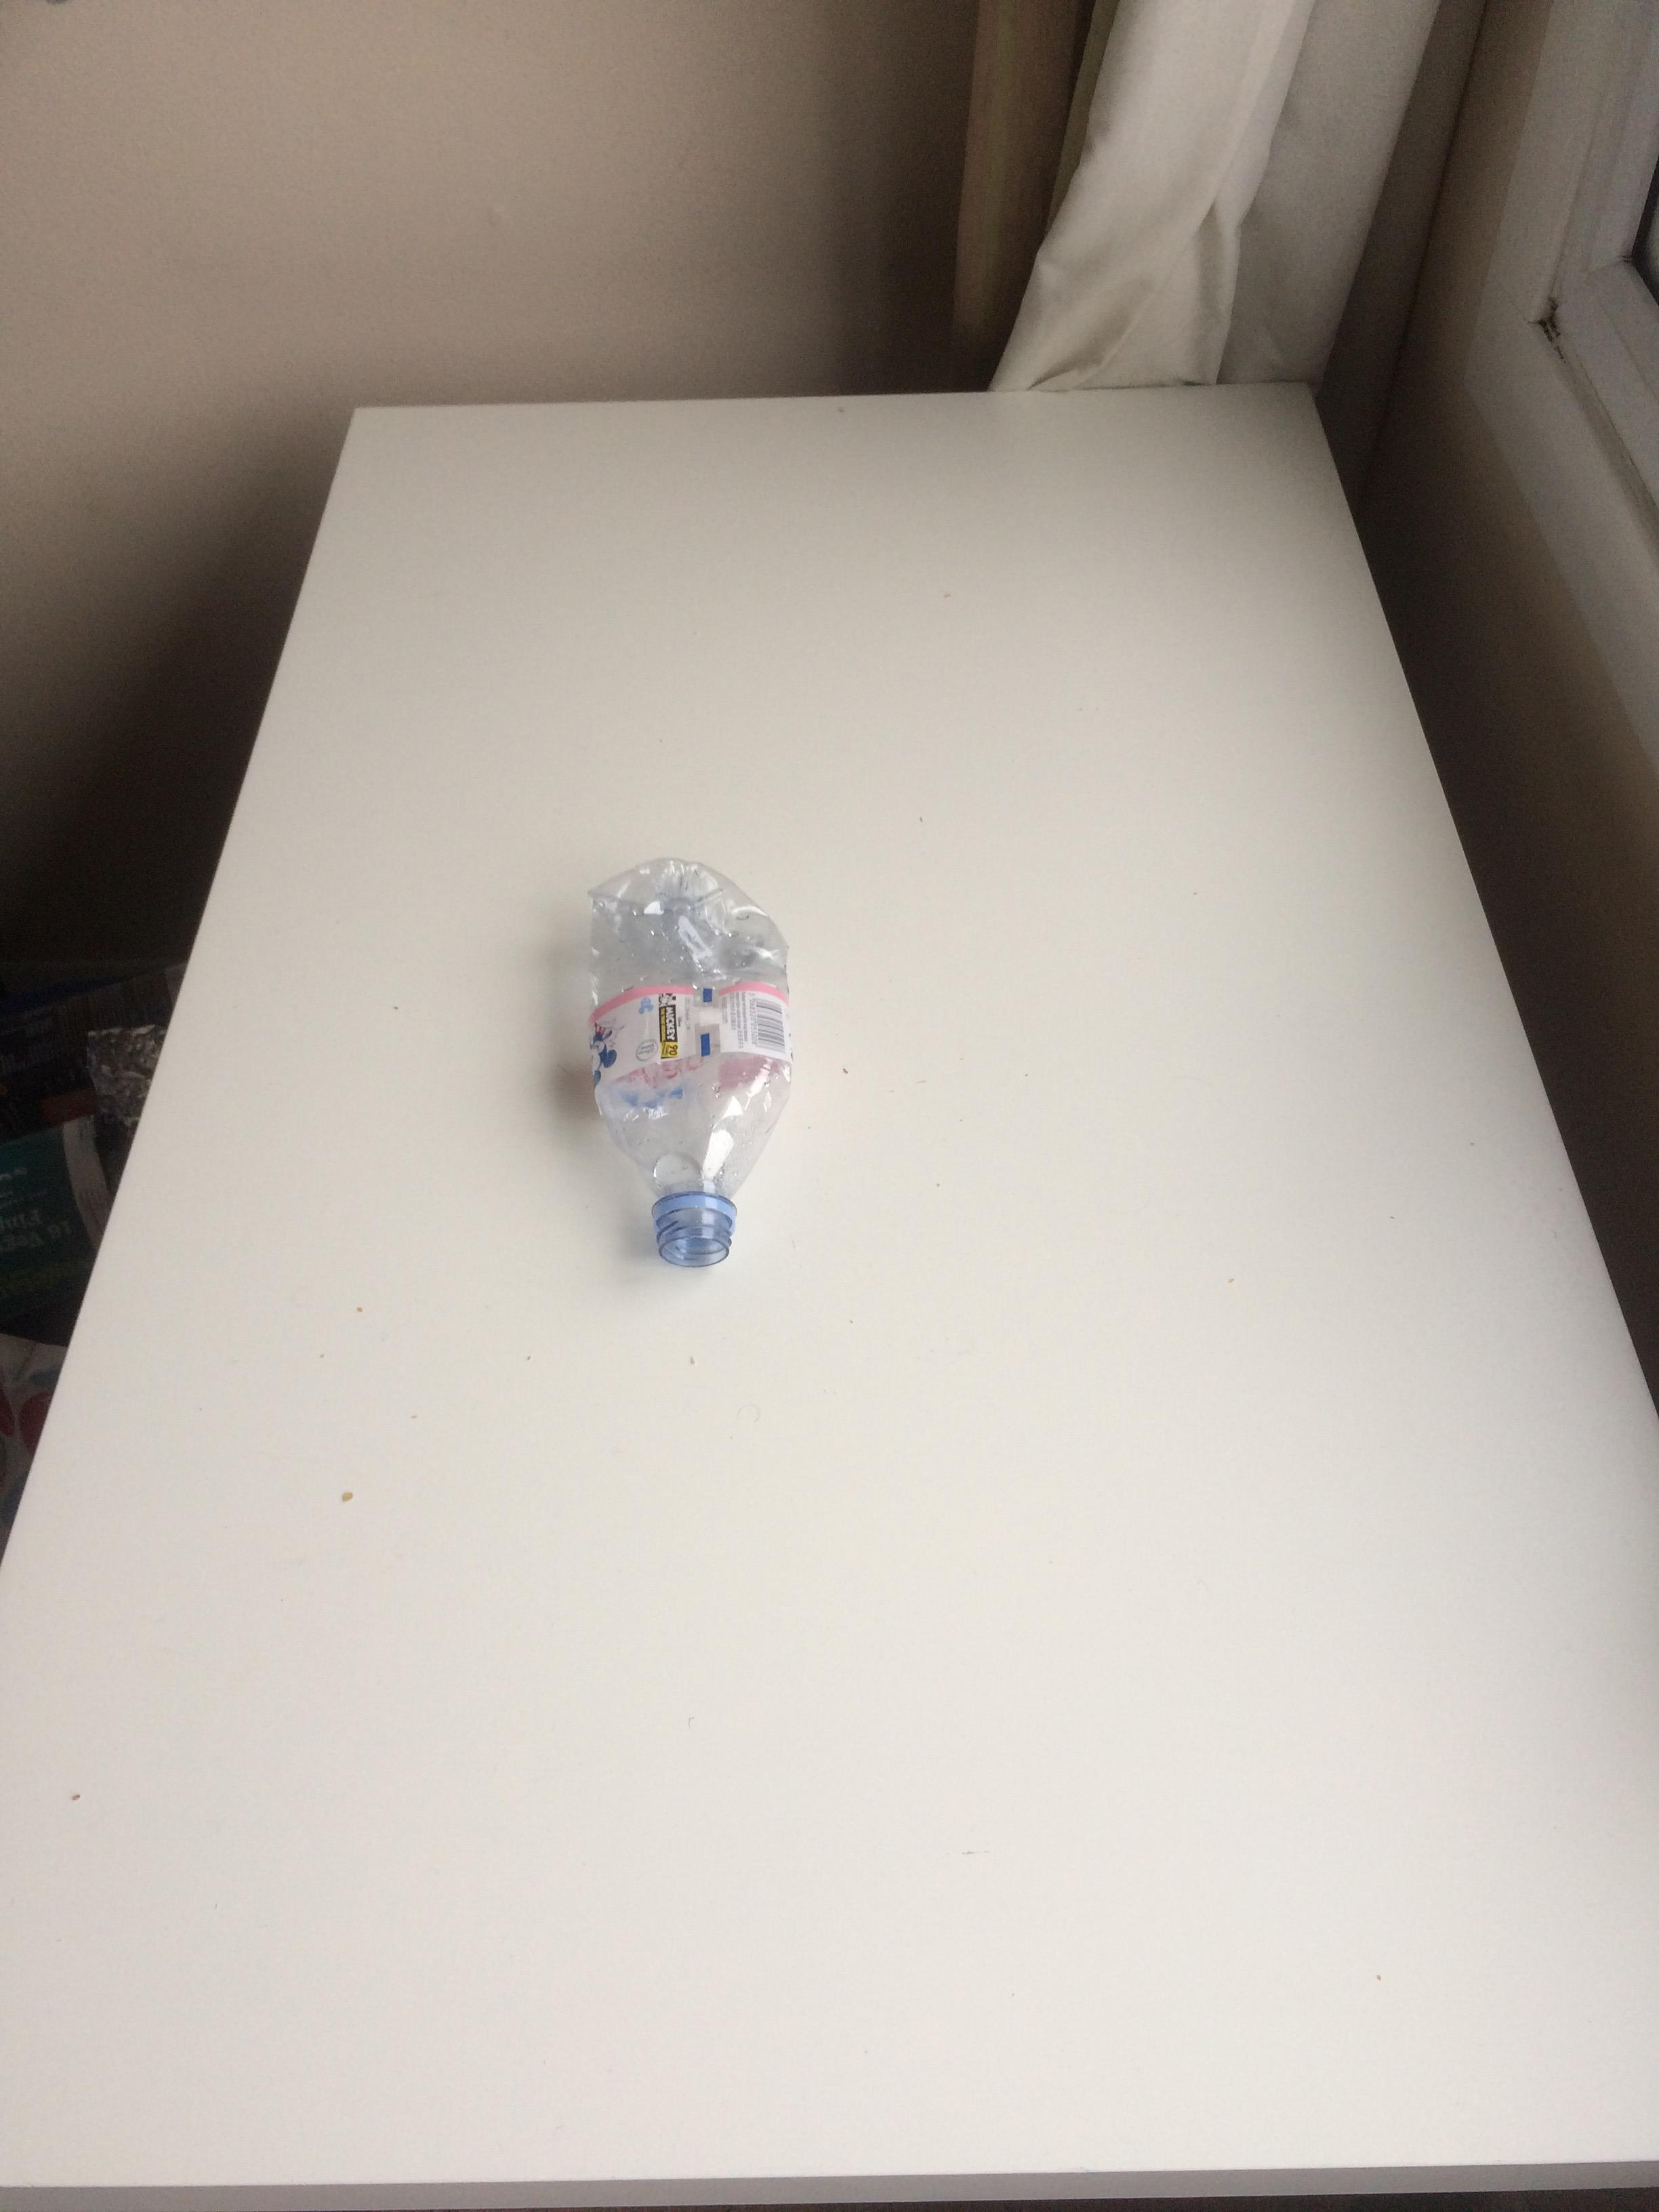Trash: (573, 841, 796, 1285)
